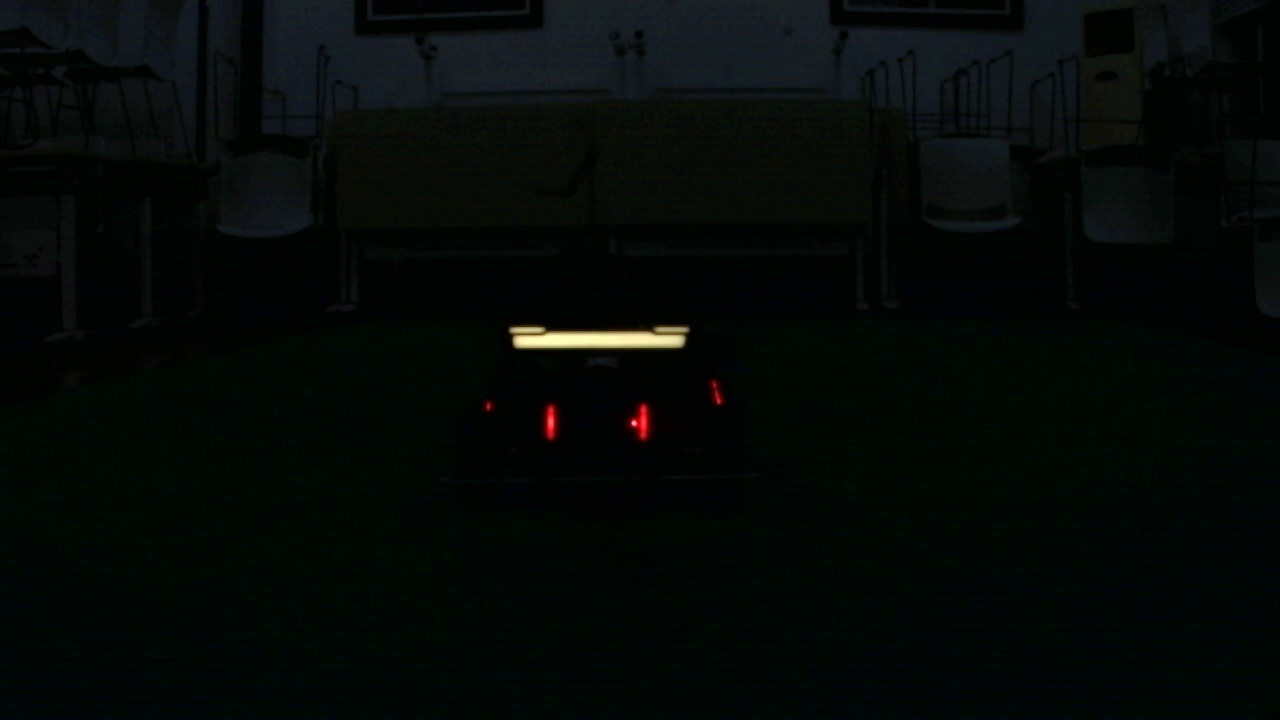lamp: (544, 404, 560, 440), (638, 405, 647, 438)
pair1: (546, 402, 648, 443)
